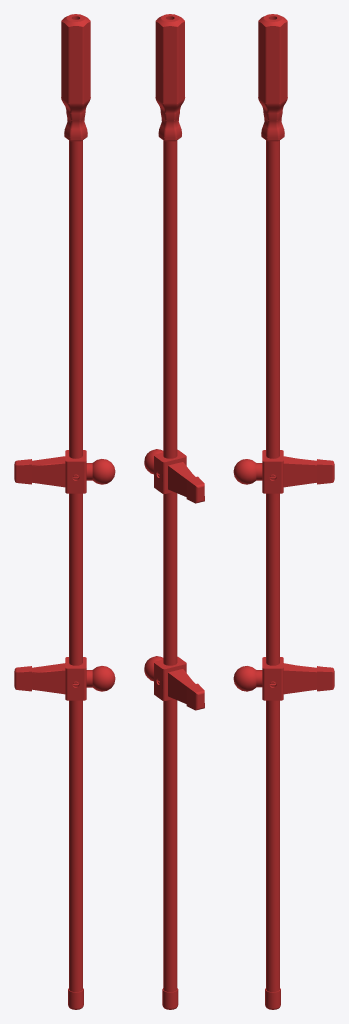
Rendered from 2-bar-centered_team_1.obj.
3 views of the same model, side by side, from view 1: azimuth 90°, elevation 25°; view 2: azimuth 210°, elevation 25°; view 3: azimuth 270°, elevation 25° (orthographic).
Visible parts, largest first — view 1: 2-bar; view 2: 2-bar; view 3: 2-bar.
Part boxes in pixels (left/top/right/bottom): 2-bar: left=14, top=14, right=115, bottom=1009; 2-bar: left=144, top=14, right=204, bottom=1009; 2-bar: left=233, top=14, right=334, bottom=1009.
Bounding box in the file's own units: 0.032 × 1.24 × 0.115.
